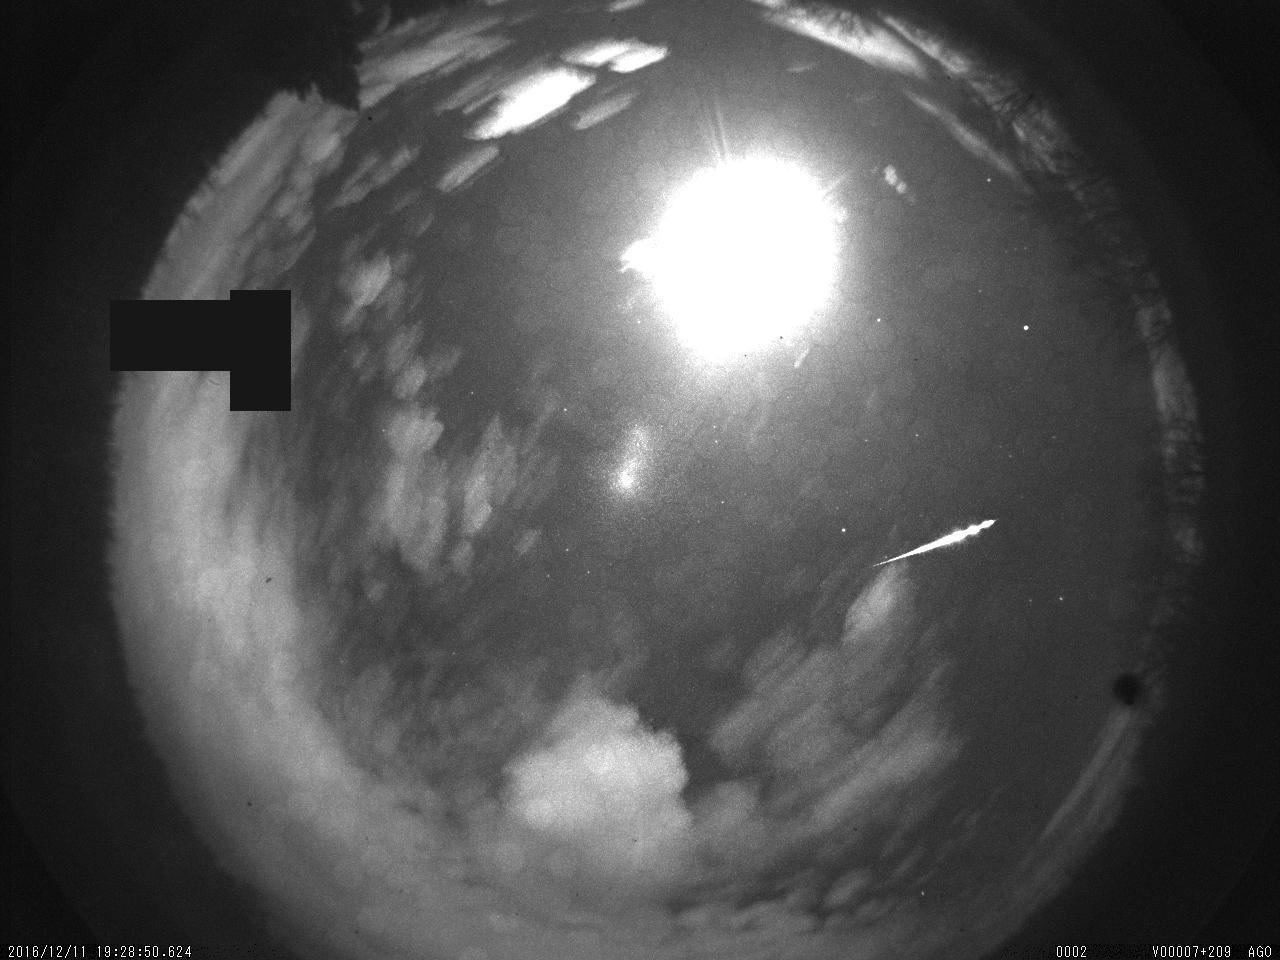Meteor: (864, 510, 1002, 574)
